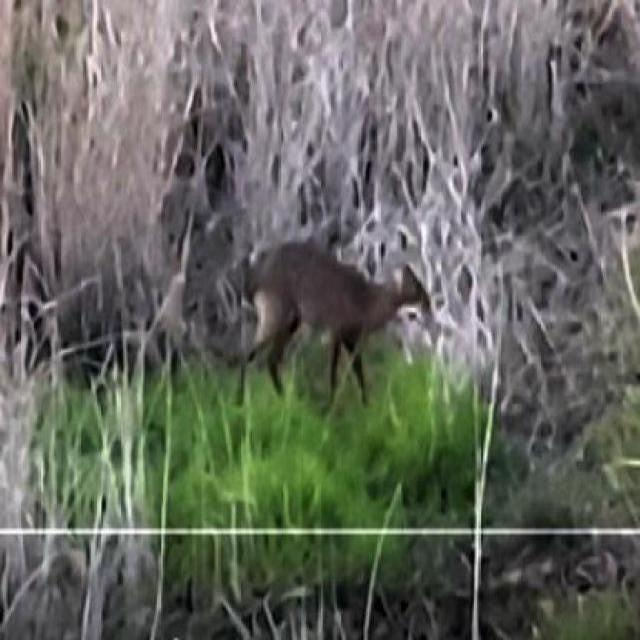deer: (176, 252, 447, 424)
